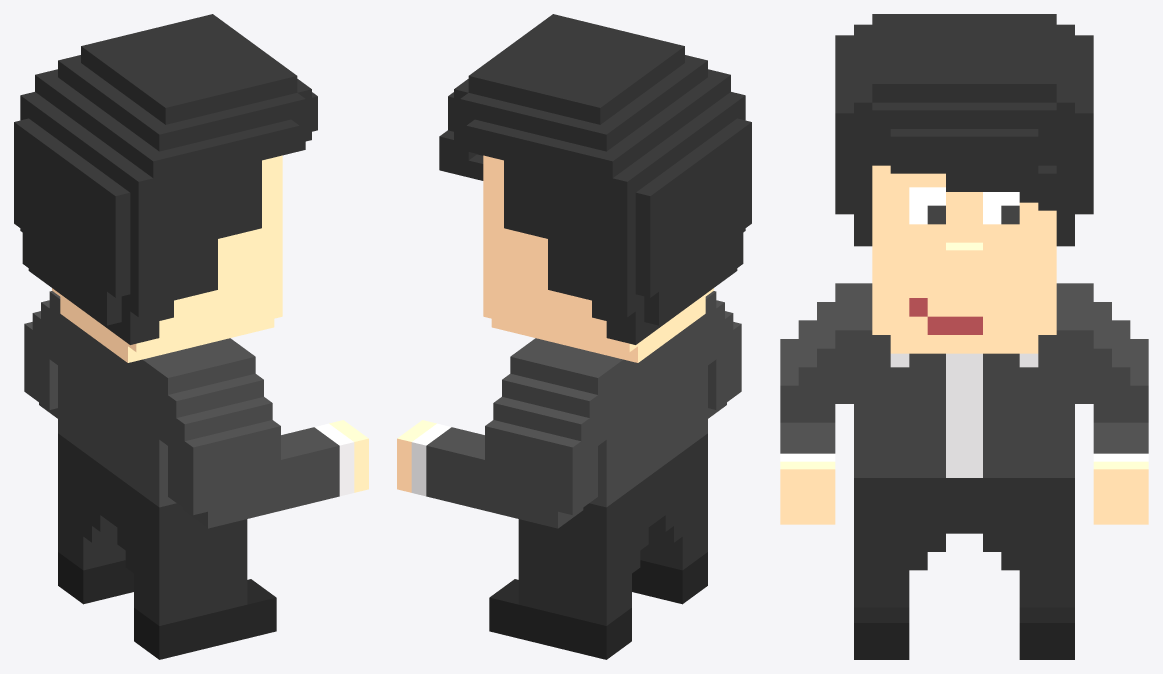
File: pixel_man.glb
The picture shows the model from 3 angles, left to right: view 1: azimuth 30°, elevation 25°; view 2: azimuth 150°, elevation 25°; view 3: azimuth 270°, elevation 25°; orthographic projection. The views are drawn at different scales.
Parts seen in each view (by area): view 1: charecter_1_Rez01:palette_0; view 2: charecter_1_Rez01:palette_0; view 3: charecter_1_Rez01:palette_0.
Part boxes in pixels (box(x1,y1,x2,y2)): charecter_1_Rez01:palette_0: box(14, 14, 368, 659); charecter_1_Rez01:palette_0: box(397, 14, 751, 659); charecter_1_Rez01:palette_0: box(780, 14, 1148, 659).
Bounding box in the file's own units: 0.8929 × 2.11 × 1.19.
Materials: 1 (1 with a texture image).
